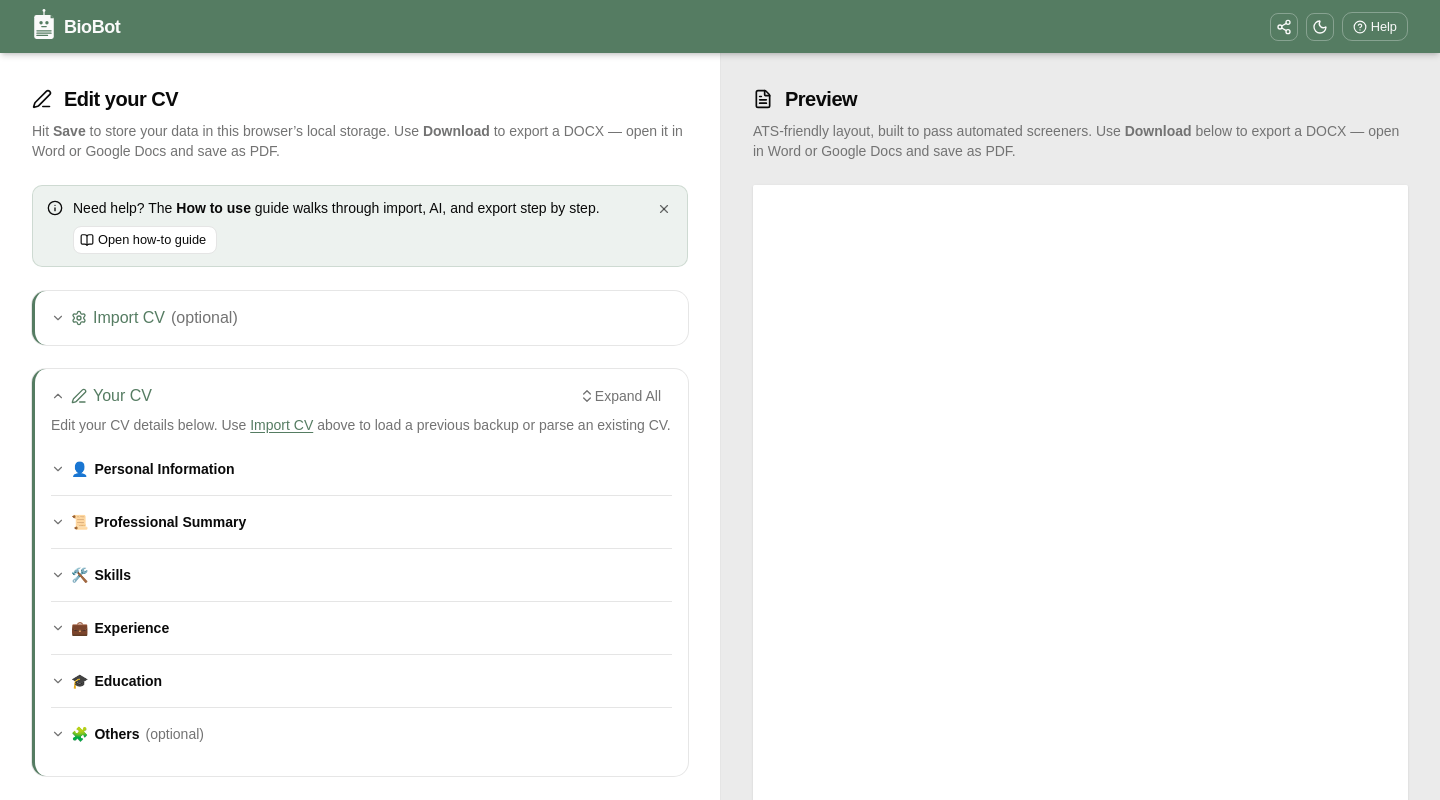
Test: CvEditorPage card expansion › Collapse All on Your CV card collapses all inner sections
Click the button "Expand All": (620, 396) [568, 385, 672, 407]
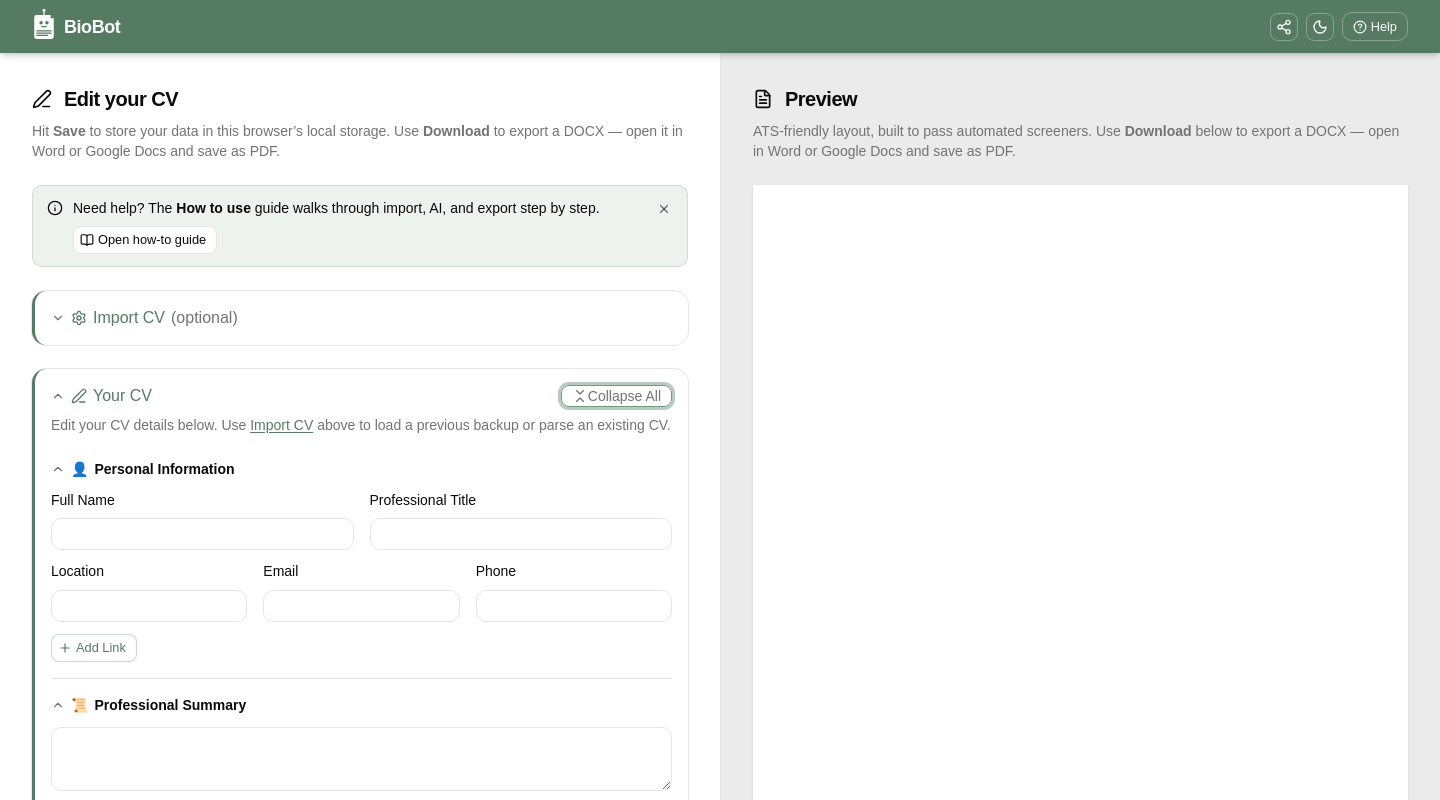
Click the button "Collapse All": (616, 396) [561, 385, 672, 407]
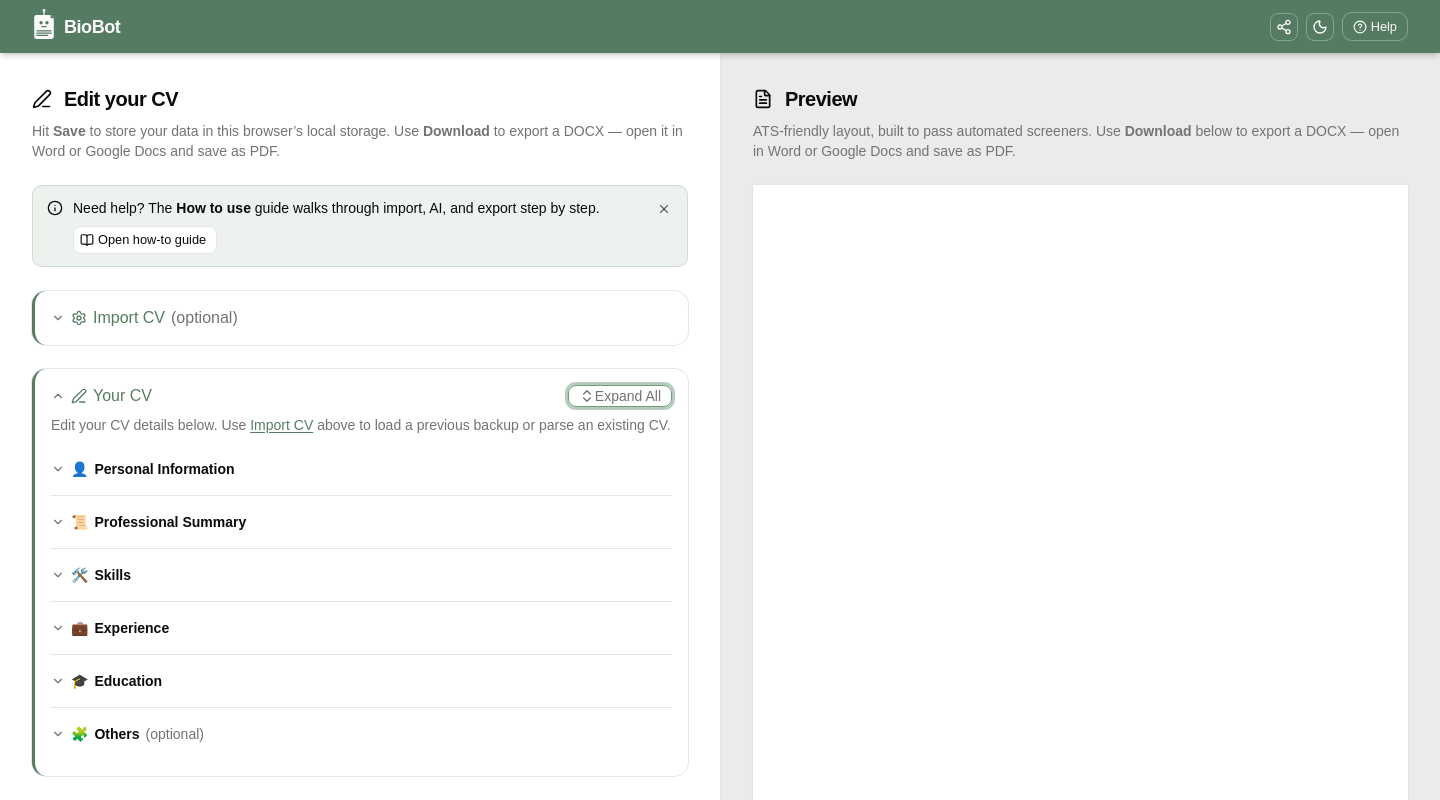
Result: the button with id "section-personal-info" is collapsed at [51, 459, 672, 479]
Result: the button with id "section-summary" is collapsed at [51, 512, 672, 532]
